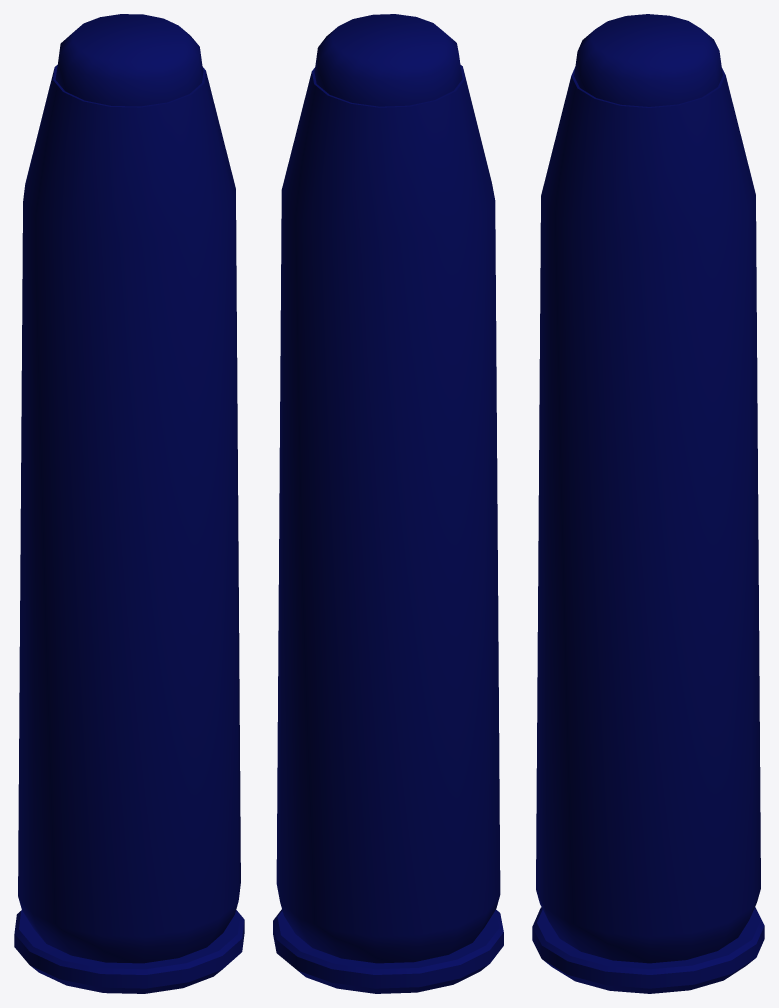
The model's file is Bullet45.FBX.
The picture shows the model from 3 angles, left to right: view 1: azimuth 30°, elevation 25°; view 2: azimuth 150°, elevation 25°; view 3: azimuth 270°, elevation 25°; orthographic projection.
Parts seen in each view (by area): view 1: Shell, Bullet; view 2: Shell, Bullet; view 3: Shell, Bullet.
Boxes of the visible parts, <box> form: Shell: <box>14,65,244,993</box>; Bullet: <box>56,14,202,106</box>; Shell: <box>273,64,503,993</box>; Bullet: <box>314,14,462,106</box>; Shell: <box>532,67,764,993</box>; Bullet: <box>574,14,722,106</box>.
Size of the model in its own units: 1.05 by 4.55 by 1.05.
